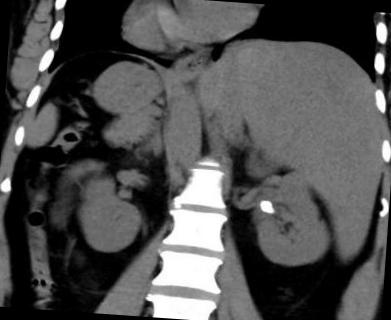Tas_Var: (255, 198, 276, 218)
